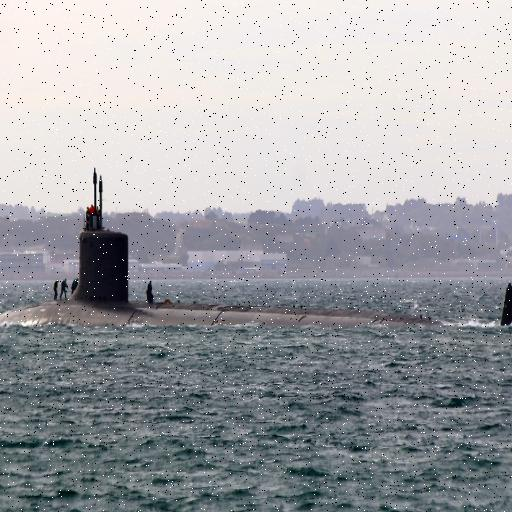submarine: (1, 193, 512, 335)
